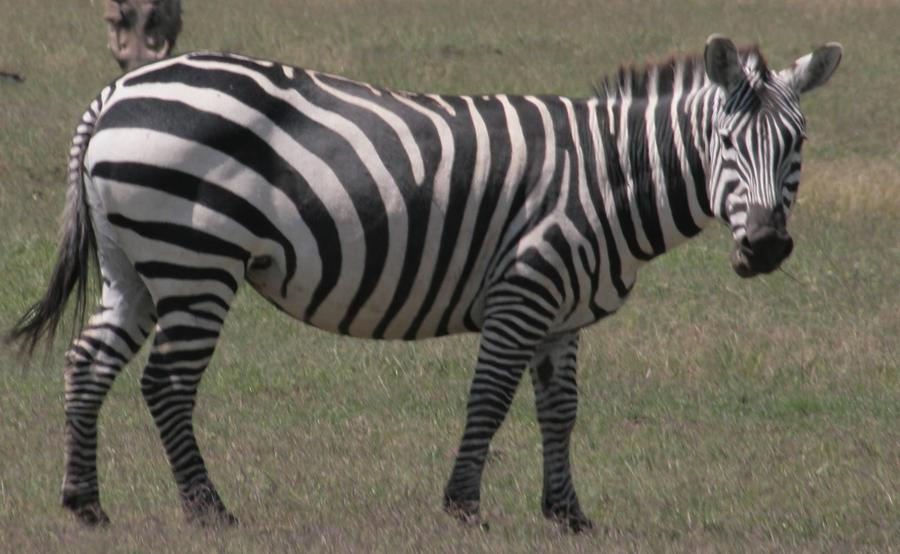zebra_plains: (98, 52, 634, 336)
